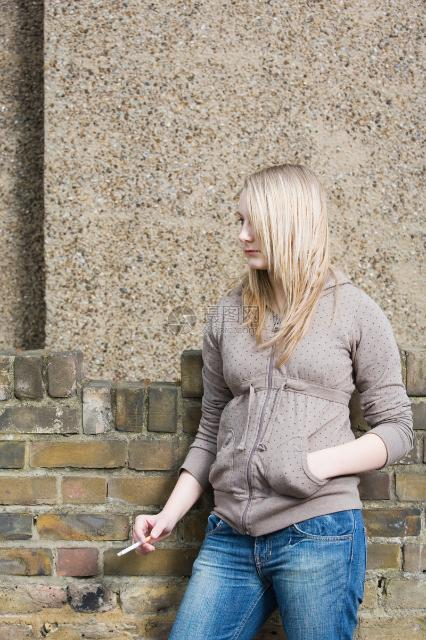Cigarette: (112, 532, 160, 560)
